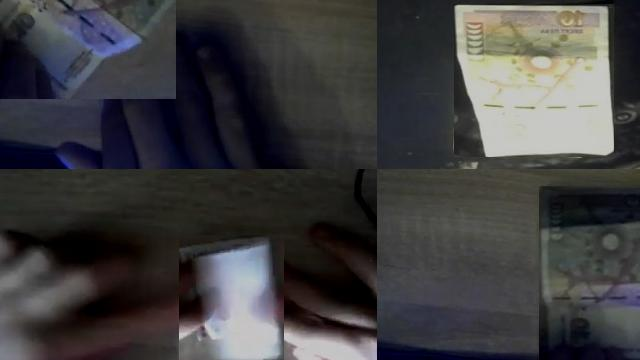10leva: (454, 4, 614, 157), (539, 186, 640, 359)
5leva: (179, 235, 284, 360)
